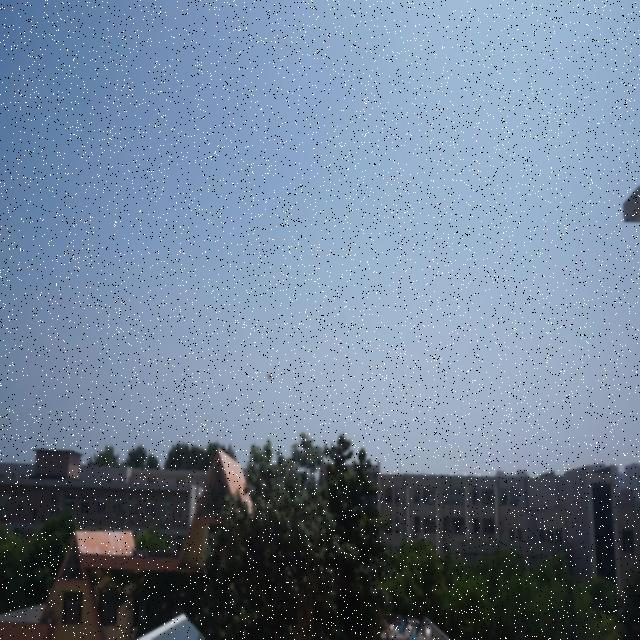UAV: (266, 373, 276, 382)
